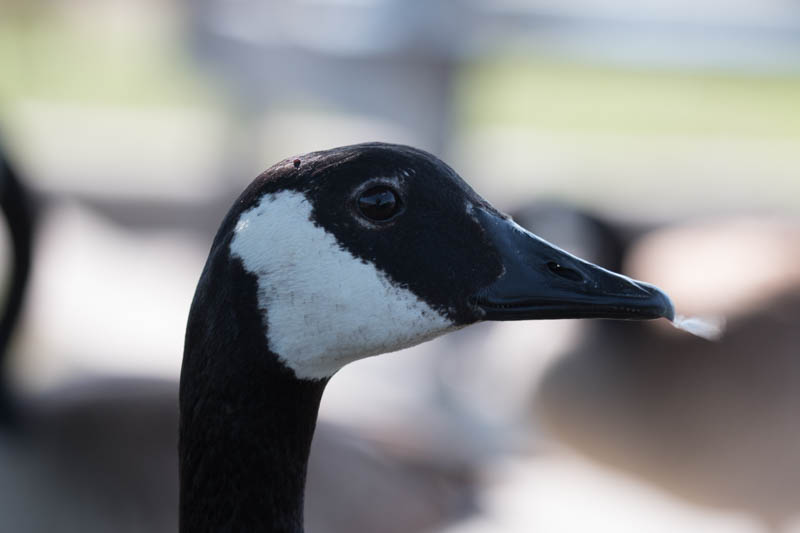goose-head: (179, 143, 674, 380)
